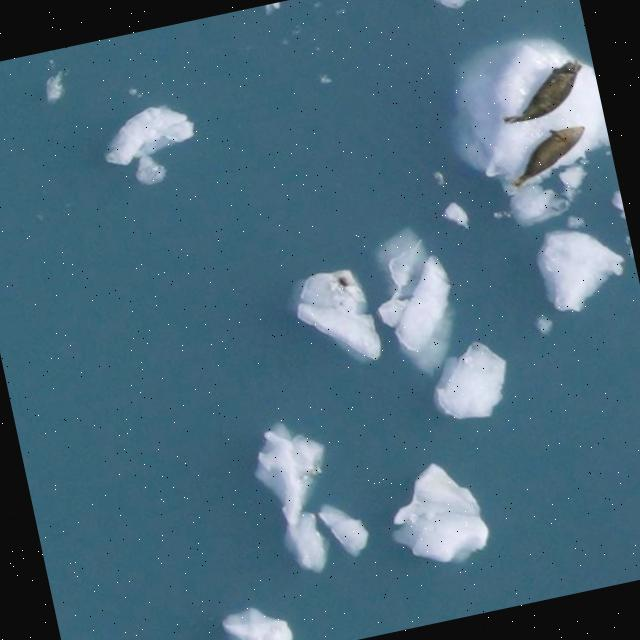seal: (502, 51, 592, 142), (501, 111, 592, 196)
